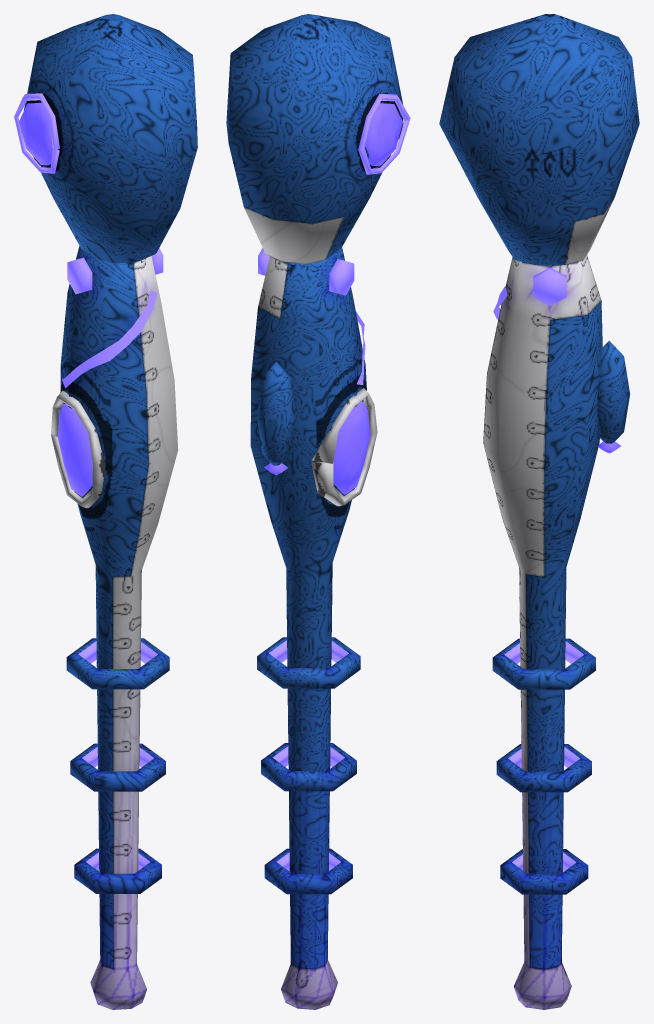
The model's file is LeftPlasmaSniperArmZ.glb.
3 views of the same model, side by side, from view 1: azimuth 30°, elevation 25°; view 2: azimuth 150°, elevation 25°; view 3: azimuth 270°, elevation 25° (orthographic).
Parts seen in each view (by area): view 1: LeftPlasmaSniperArmZ_Fore, LeftPlasmaSniperArmZ_Upper; view 2: LeftPlasmaSniperArmZ_Fore, LeftPlasmaSniperArmZ_Upper; view 3: LeftPlasmaSniperArmZ_Fore, LeftPlasmaSniperArmZ_Upper.
Part boxes in pixels (left/top/right/bottom): LeftPlasmaSniperArmZ_Fore: left=51, top=246, right=178, bottom=1009; LeftPlasmaSniperArmZ_Upper: left=14, top=14, right=197, bottom=263; LeftPlasmaSniperArmZ_Fore: left=250, top=247, right=377, bottom=1009; LeftPlasmaSniperArmZ_Upper: left=226, top=14, right=410, bottom=264; LeftPlasmaSniperArmZ_Fore: left=483, top=255, right=629, bottom=1009; LeftPlasmaSniperArmZ_Upper: left=439, top=14, right=639, bottom=264.
Size of the model in its own units: 4.38 by 28.3 by 5.25.
5 materials, 3 textured.
